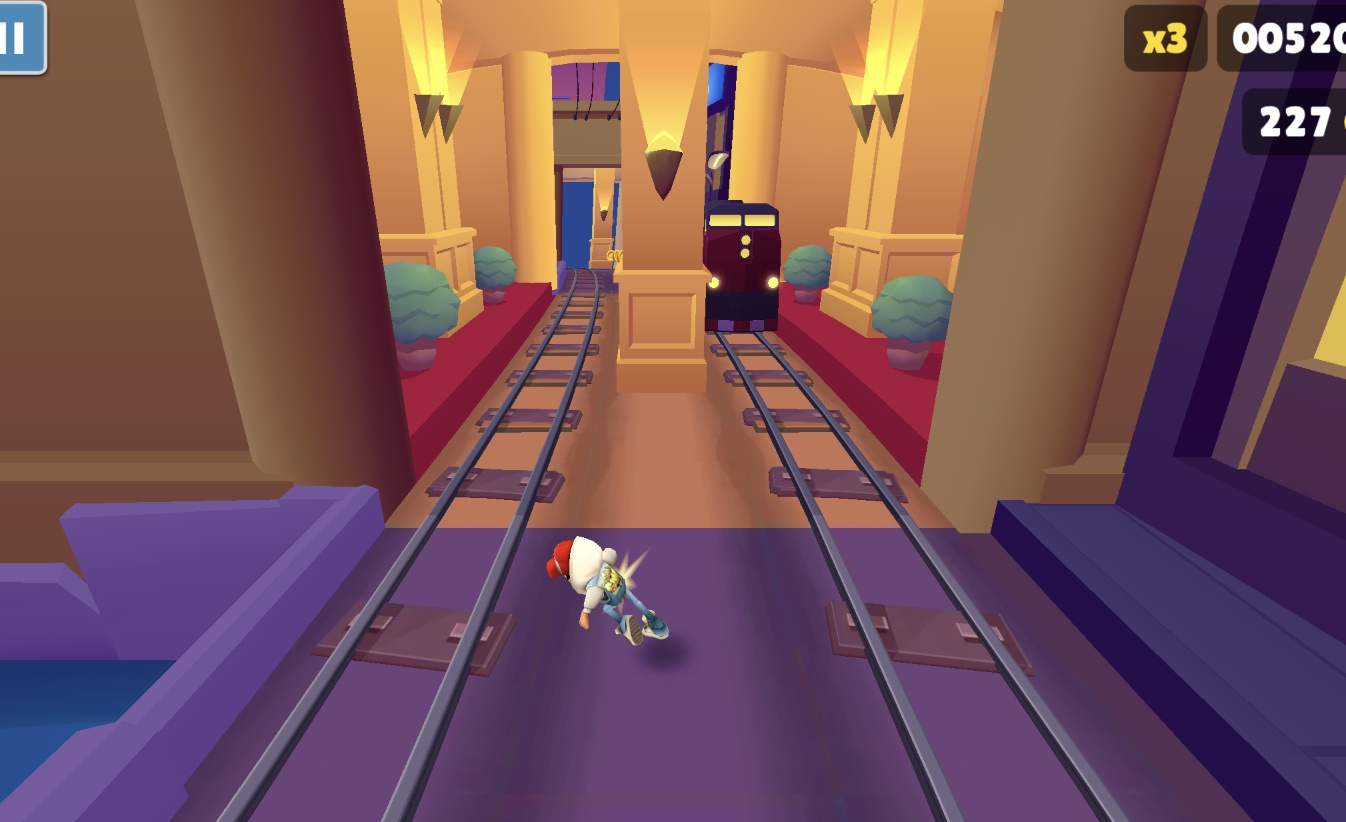pillar: (620, 0, 708, 370), (588, 170, 616, 268)
train: (704, 202, 782, 306)
